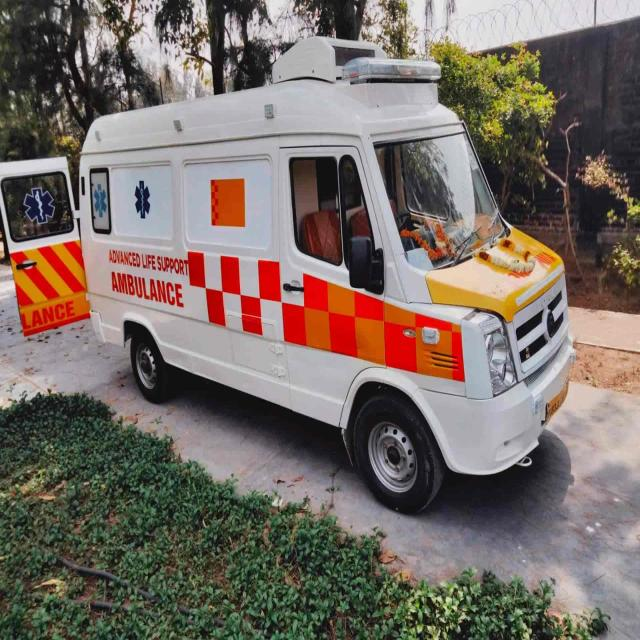emergency: (0, 37, 574, 512)
